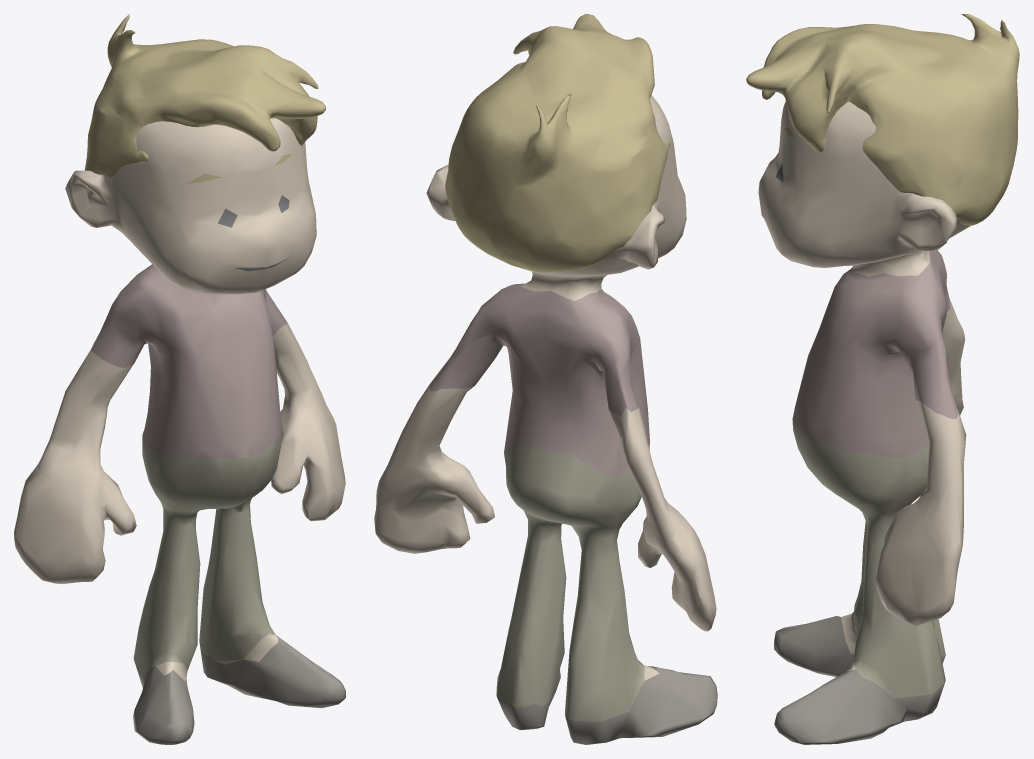
The model's file is hiyake.fbx.
3 views of the same model, side by side, from view 1: azimuth 30°, elevation 25°; view 2: azimuth 150°, elevation 25°; view 3: azimuth 270°, elevation 25° (orthographic). The views are drawn at different scales.
Visible parts, largest first — view 1: PM3D_Sphere3D1_3; view 2: PM3D_Sphere3D1_3; view 3: PM3D_Sphere3D1_3.
Part boxes in pixels (<box>): PM3D_Sphere3D1_3: <box>14,14,345,744</box>; PM3D_Sphere3D1_3: <box>374,14,717,744</box>; PM3D_Sphere3D1_3: <box>746,14,1019,744</box>.
Size of the model in its own units: 5.06 by 9.77 by 3.56.
